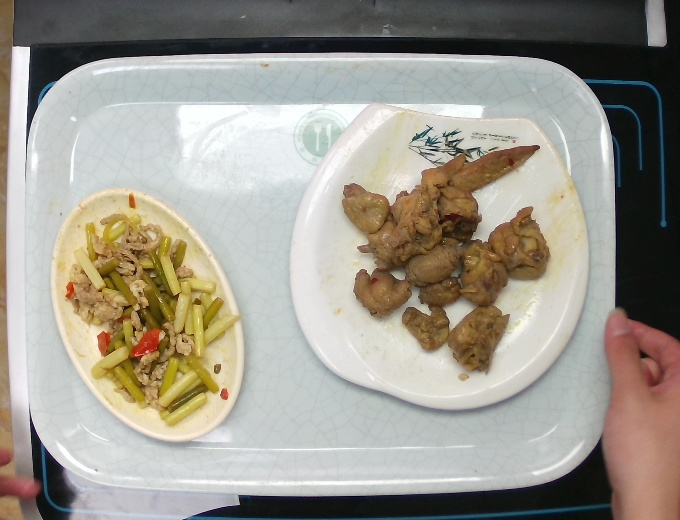JYsf-Mian_Pan: (280, 96, 593, 416)
JYsf-Tuo_Yuan_Wan: (40, 183, 255, 456)
